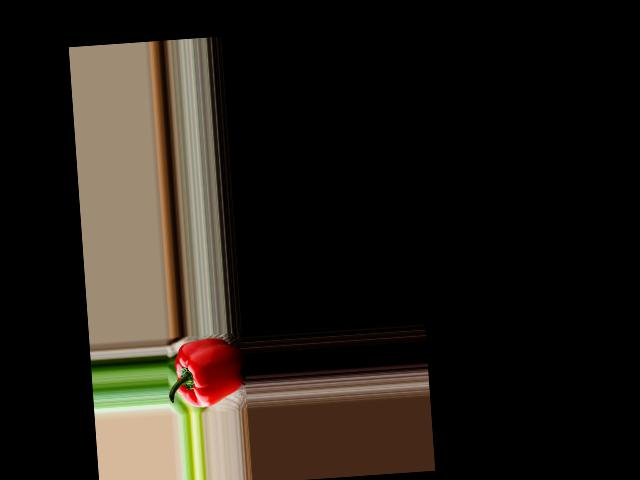bell_pepper: (167, 337, 248, 411)
